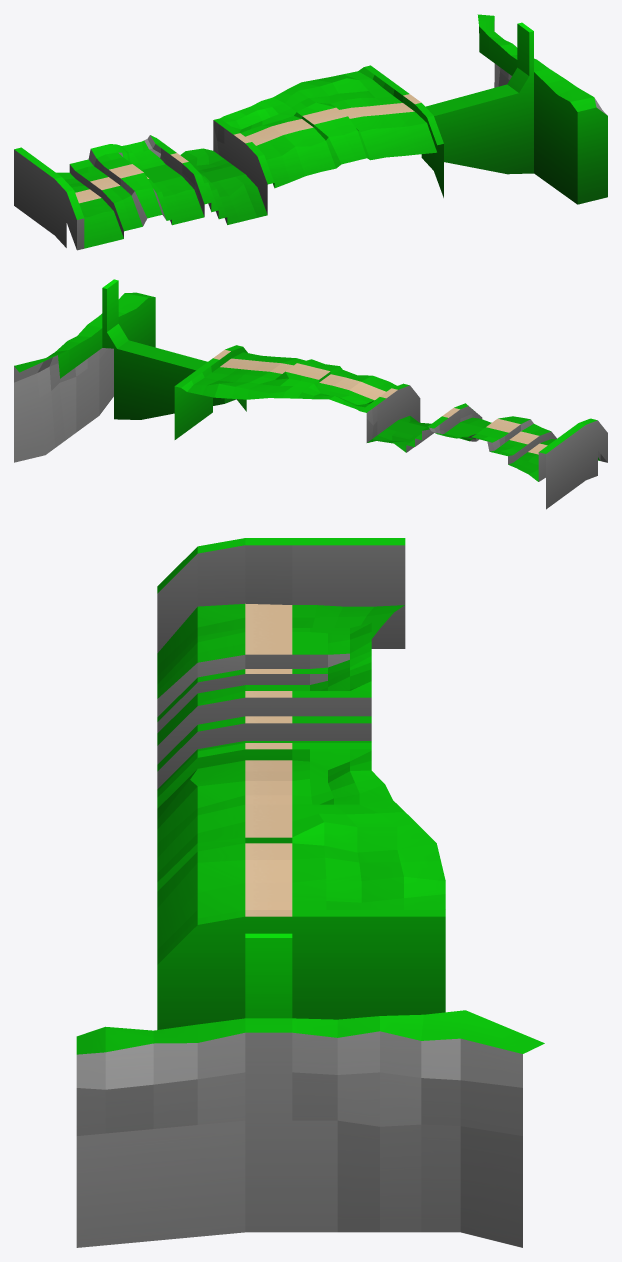
The model's file is Level Area 1.fbx.
3 views of the same model, one above another, from view 1: azimuth 30°, elevation 25°; view 2: azimuth 150°, elevation 25°; view 3: azimuth 270°, elevation 25° (orthographic). The views are drawn at different scales.
Parts seen in each view (by area): view 1: polySurface115; view 2: polySurface115; view 3: polySurface115.
Part boxes in pixels (x1,y1,x2,y2): polySurface115: [14, 14, 607, 250]; polySurface115: [14, 279, 607, 509]; polySurface115: [76, 538, 544, 1247].
Bounding box in the file's own units: 249 × 65.93 × 99.97.
1 material, 1 textured.
